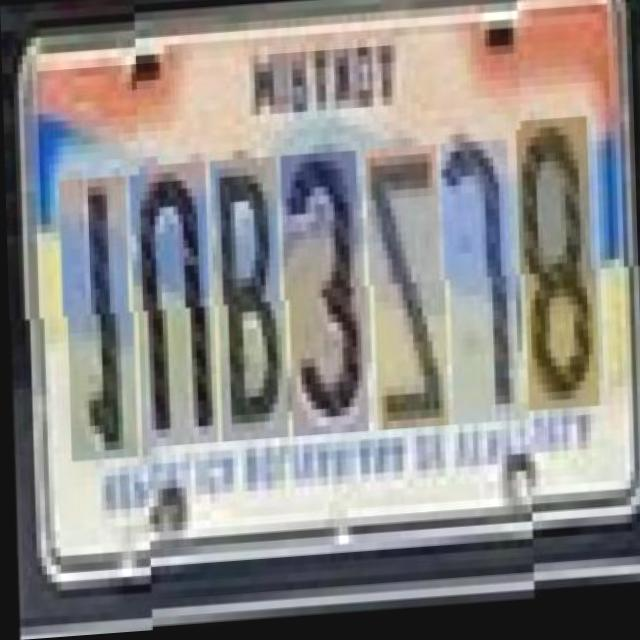1: (63, 169, 135, 455)
3: (284, 155, 366, 442)
8: (519, 134, 597, 428)
b: (213, 160, 286, 446)
j: (444, 147, 517, 432)
u: (133, 164, 215, 450)
z: (369, 151, 447, 437)
